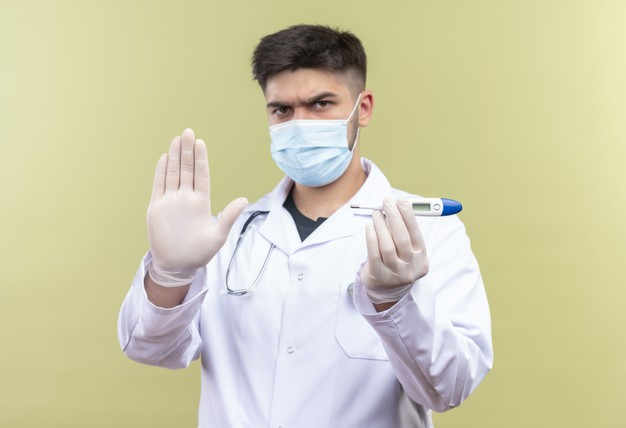Gloves: (135, 121, 255, 288), (356, 195, 437, 315)
with_mask: (267, 102, 360, 187)
